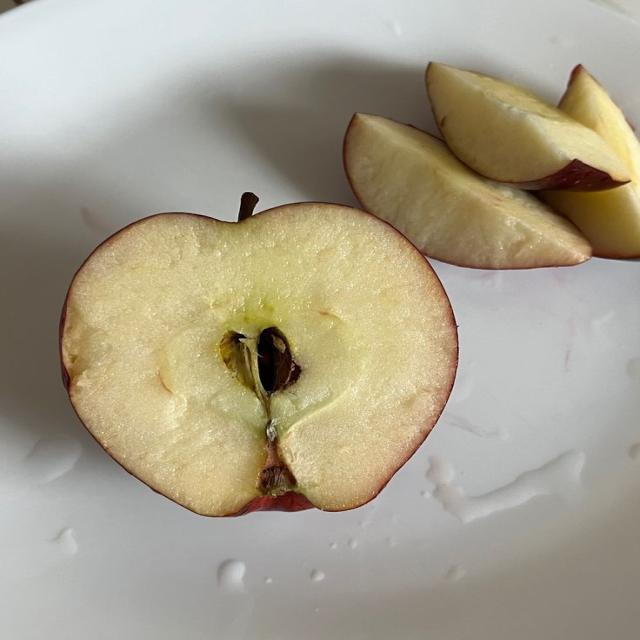apple: (61, 203, 457, 516), (344, 114, 591, 268), (427, 62, 629, 190), (543, 66, 639, 258)
